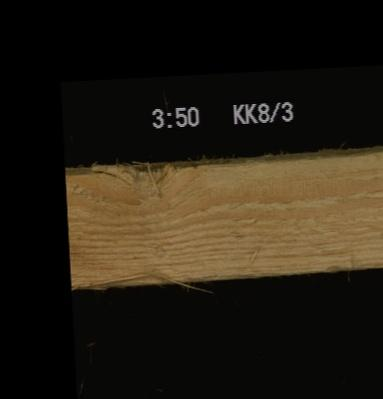edge_knot: (93, 159, 215, 193)
